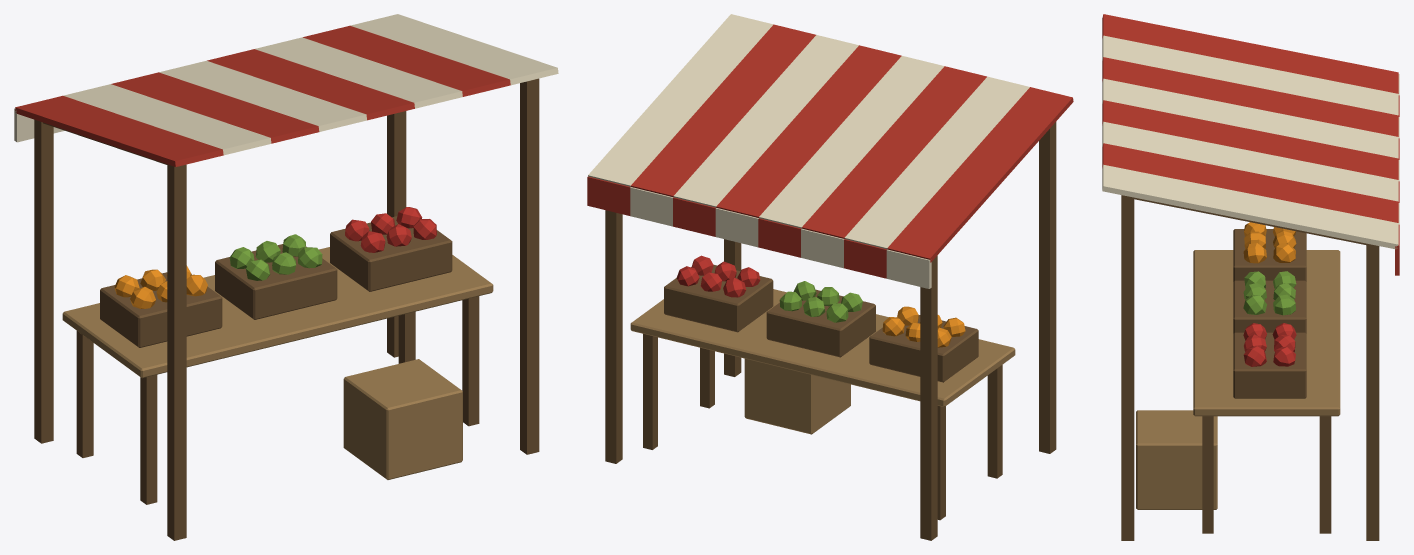
The model's file is stall.glb.
3 renders of one model, left to right at view 1: azimuth 30°, elevation 25°; view 2: azimuth 150°, elevation 25°; view 3: azimuth 270°, elevation 25°, orthographic. The views are drawn at different scales.
Visible parts, largest first — view 1: stall; view 2: stall; view 3: stall.
Boxes of the visible parts, x1=… form: stall: x1=14, y1=14, x2=558, y2=540; stall: x1=587, y1=14, x2=1073, y2=540; stall: x1=1102, y1=14, x2=1399, y2=540.
Size of the model in its own units: 2.5 by 2.42 by 1.82.
